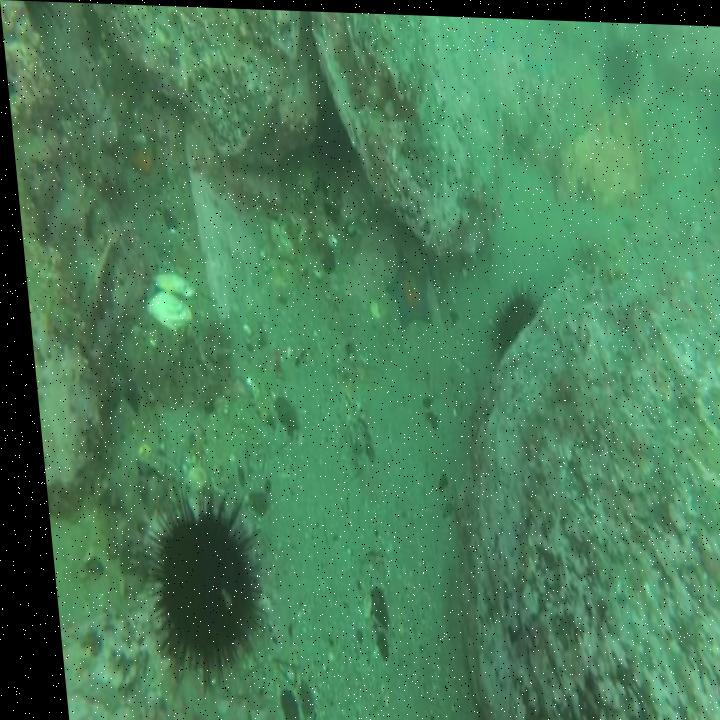echinus: (138, 495, 256, 688), (483, 284, 535, 362), (596, 30, 645, 97)
holothurian: (566, 228, 626, 281)
scallop: (136, 263, 193, 335)
starfish: (377, 240, 433, 332)
